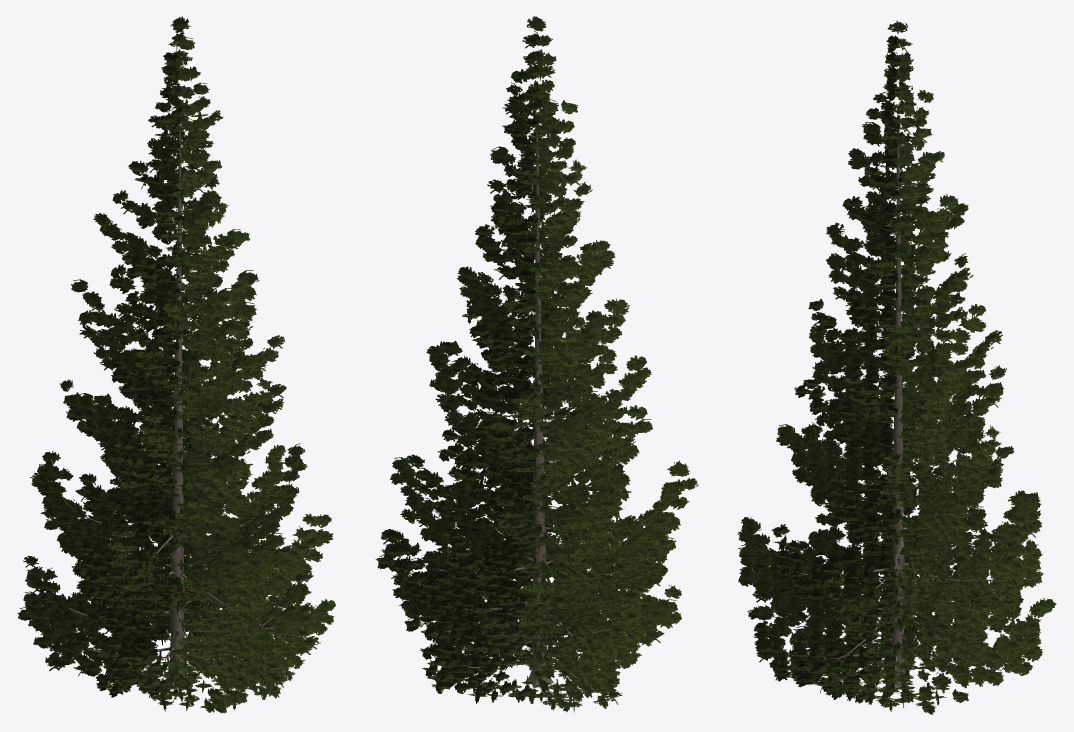
File: norway_spruce_a.glb
3 views of the same model, side by side, from view 1: azimuth 30°, elevation 25°; view 2: azimuth 150°, elevation 25°; view 3: azimuth 270°, elevation 25° (orthographic).
Visible parts, largest first — view 1: norway_spruce_a_LOD0; view 2: norway_spruce_a_LOD0; view 3: norway_spruce_a_LOD0.
Boxes of the visible parts, x1,y1,x2,y2 form: norway_spruce_a_LOD0: [17, 16, 335, 713]; norway_spruce_a_LOD0: [375, 16, 698, 712]; norway_spruce_a_LOD0: [737, 20, 1056, 714].
Size of what is drawn, in the model's own units: 4.19 by 9.61 by 4.26.
Materials: 2 (2 with a texture image).
